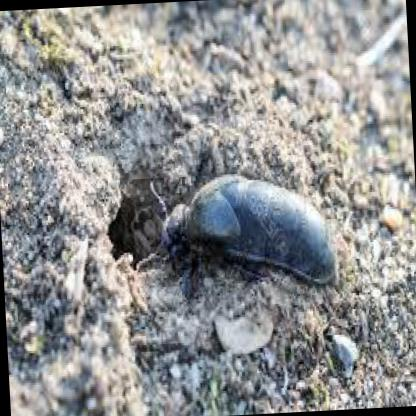blister beetle: (133, 174, 340, 291)
